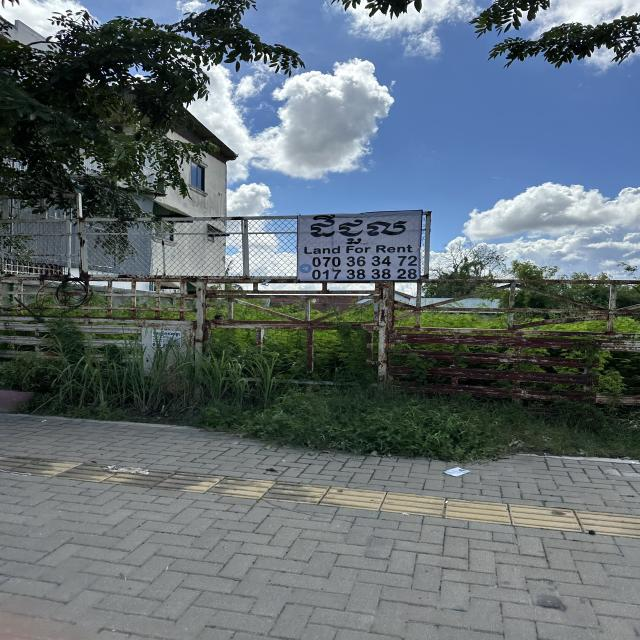Yolov11kh: (300, 210, 415, 244)
